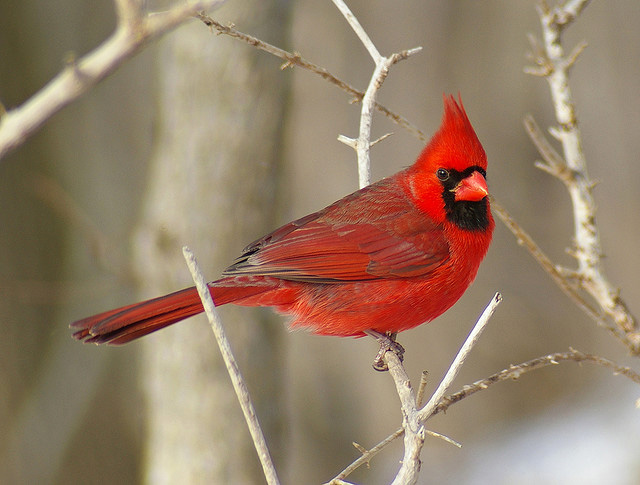bird: (190, 126, 491, 340)
